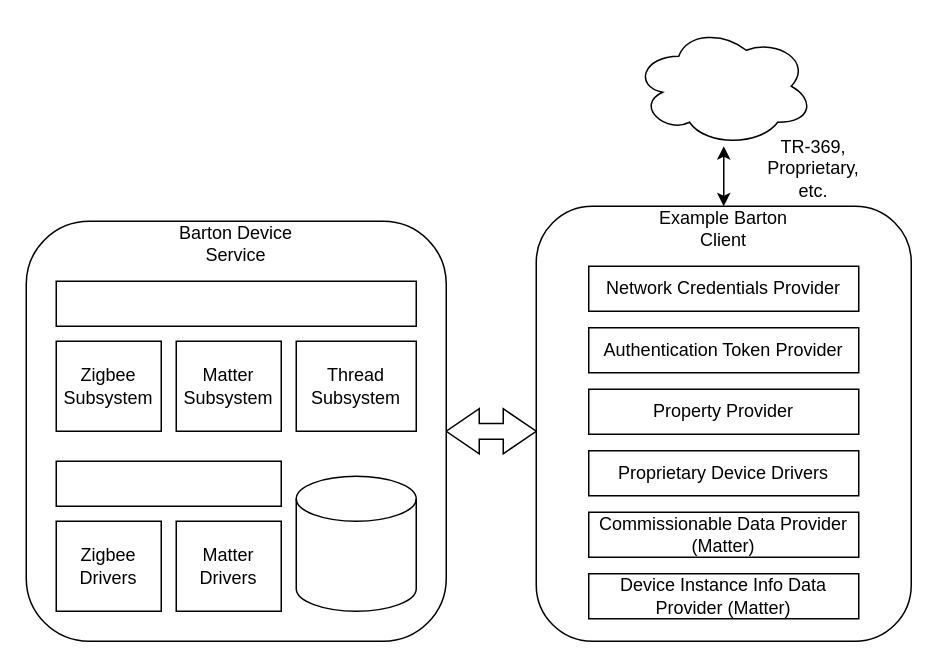
The diagram is 938 pixels wide and 668 high, and some of its shapes have lost their labels. Here are the shapes that lost their labels. From the top down, the centre of each, then its label:
the point at 723,85: Client Cloud
the point at 235,303: Subsystem Manager
the point at 168,483: Device Driver Manager
the point at 355,543: Device Resource Model
